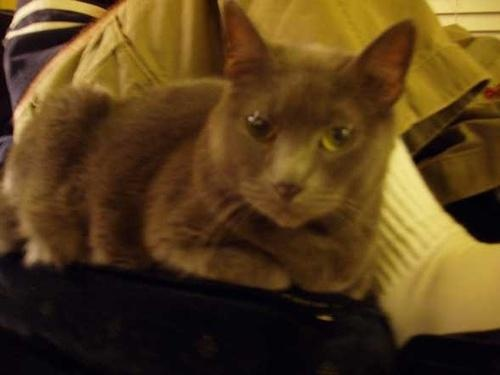cat: (4, 1, 419, 293)
